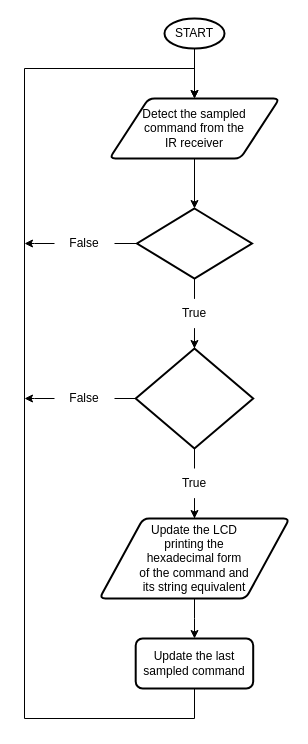
This 308x744 diagram has some shape labels left out. Each missing label, with the centre of its shape:
If it is a valid command: [194,243]
If it is not equal to the last sampled command: [194,398]
